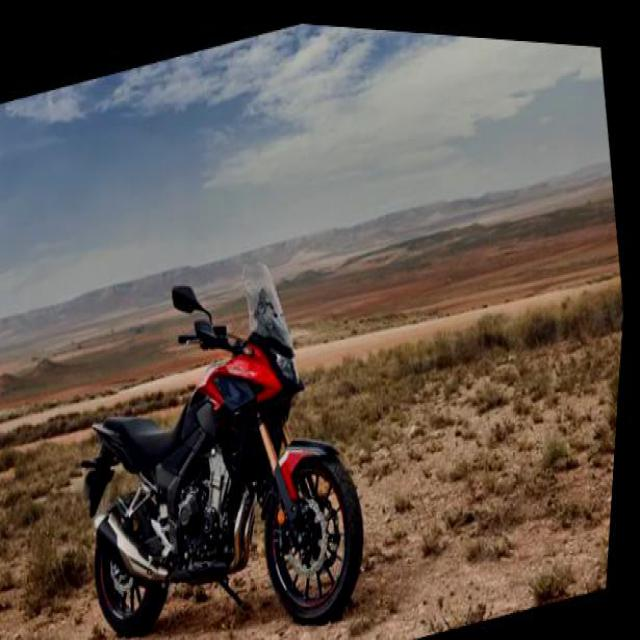CB500X: (54, 212, 397, 638)
